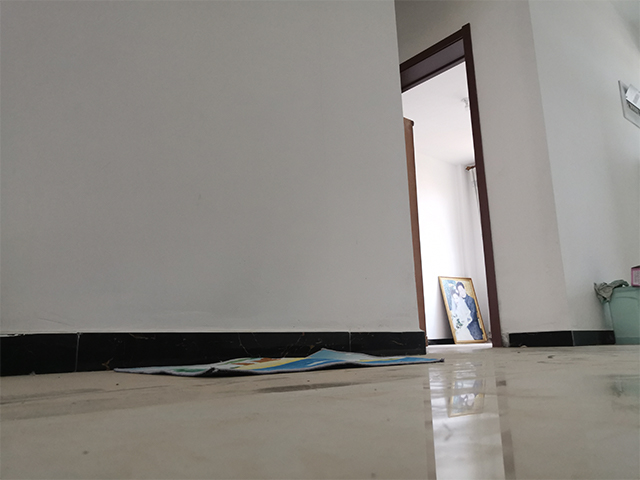carpet: (111, 345, 446, 380)
trashcan: (604, 285, 640, 348)
